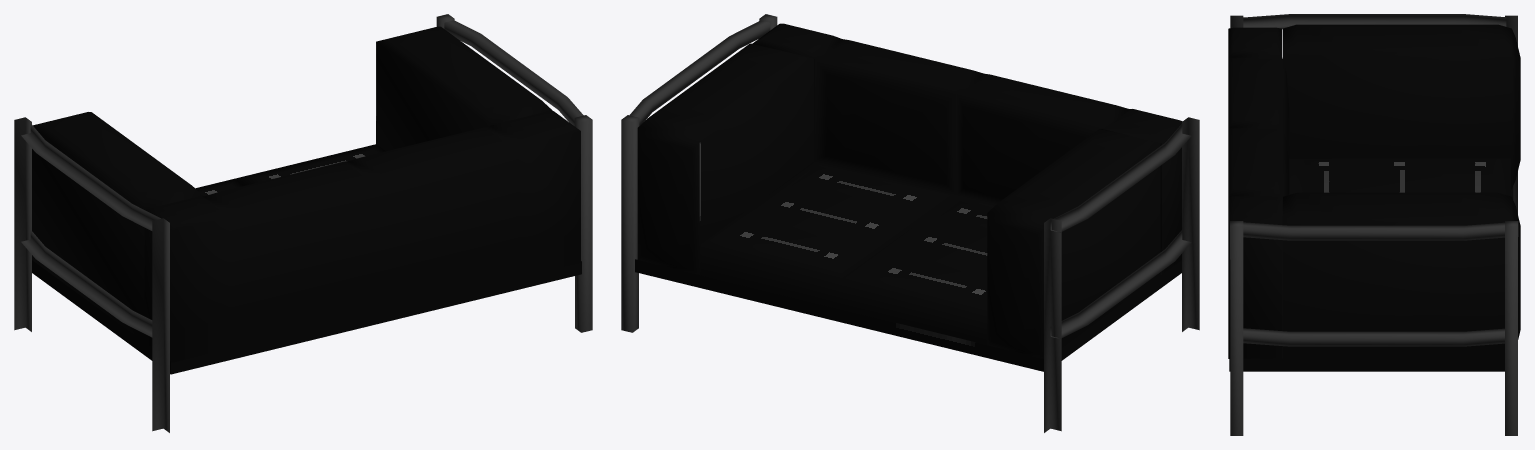
The model's file is lab-sofa.glb.
3 views of the same model, side by side, from view 1: azimuth 30°, elevation 25°; view 2: azimuth 150°, elevation 25°; view 3: azimuth 270°, elevation 25° (orthographic).
Visible parts, largest first — view 1: Sofa; view 2: Sofa; view 3: Sofa.
Part boxes in pixels (<box>): Sofa: <box>14,14,592,432</box>; Sofa: <box>621,14,1199,432</box>; Sofa: <box>1228,14,1520,435</box>.
Bounding box in the file's own units: 8.88 × 4.01 × 5.07.
Materials: 1 (1 with a texture image).
